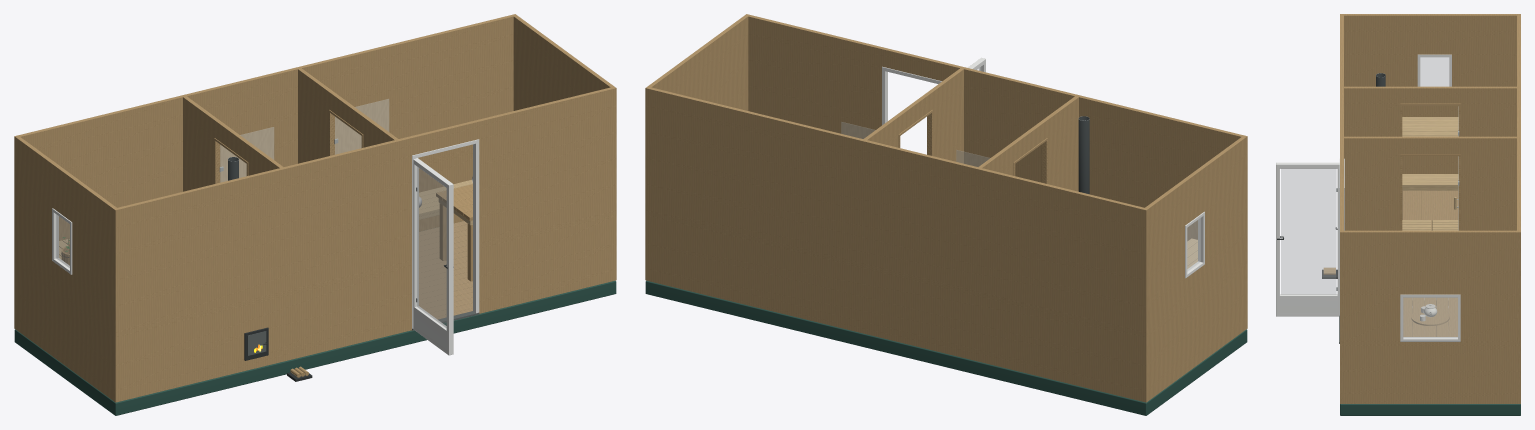
3 renders of one model, left to right at view 1: azimuth 30°, elevation 25°; view 2: azimuth 150°, elevation 25°; view 3: azimuth 270°, elevation 25°, orthographic. The views are drawn at different scales.
Visible parts, largest first — view 1: DP04-W01, DP04-W02, DP04-W03, Dimensioned foundation, Hinge_DP04-D03, DP04-W04, DP04-W05, DP04-W06, Floor lounge, Door entry p4_i372, С1 table, Hinge_DP04-D02 (+4 smaller); view 2: DP04-W02, DP04-W01, DP04-W03, Dimensioned foundation, DP04-W04, DP04-W05, DP04-W06, Window p4_i417, ASTON dimensioned stove and remote firebox, Door entry p4_i372; view 3: DP04-W04, DP04-W03, DP04-W06, Hinge_DP04-D03, DP04-W05, Window p4_i418, С1 table, Dimensioned foundation, Floor steam, DP04-W01, DP04-W02, Window p4_i417 (+7 smaller).
Boxes of the visible parts, left/top/right/bottom form: DP04-W01: left=113, top=86, right=616, bottom=402; DP04-W02: left=14, top=14, right=516, bottom=329; DP04-W03: left=16, top=137, right=116, bottom=400; Dimensioned foundation: left=14, top=280, right=616, bottom=415; Hinge_DP04-D03: left=413, top=158, right=453, bottom=355; DP04-W04: left=513, top=15, right=613, bottom=110; DP04-W05: left=183, top=96, right=283, bottom=191; DP04-W06: left=298, top=68, right=398, bottom=163; Floor lounge: left=419, top=221, right=472, bottom=319; Door entry p4_i372: left=412, top=139, right=479, bottom=330; С1 table: left=436, top=184, right=472, bottom=281; Hinge_DP04-D02: left=334, top=99, right=388, bottom=154; DP04-W02: left=645, top=86, right=1148, bottom=402; DP04-W01: left=745, top=14, right=1247, bottom=329; DP04-W03: left=1145, top=137, right=1245, bottom=400; Dimensioned foundation: left=645, top=280, right=1247, bottom=415; DP04-W04: left=648, top=15, right=748, bottom=110; DP04-W05: left=978, top=96, right=1078, bottom=191; DP04-W06: left=863, top=68, right=963, bottom=163; Window p4_i417: left=1185, top=211, right=1204, bottom=278; ASTON dimensioned stove and remote firebox: left=1078, top=116, right=1089, bottom=194; Door entry p4_i372: left=882, top=66, right=941, bottom=125; DP04-W04: left=1344, top=230, right=1516, bottom=403; DP04-W03: left=1344, top=14, right=1516, bottom=173; DP04-W06: left=1344, top=136, right=1516, bottom=230; Hinge_DP04-D03: left=1276, top=162, right=1339, bottom=316; DP04-W05: left=1344, top=86, right=1516, bottom=136; Window p4_i418: left=1400, top=294, right=1460, bottom=341; С1 table: left=1403, top=297, right=1457, bottom=336; Dimensioned foundation: left=1340, top=404, right=1520, bottom=415; Floor steam: left=1402, top=190, right=1458, bottom=230; DP04-W01: left=1340, top=14, right=1343, bottom=403; DP04-W02: left=1517, top=14, right=1520, bottom=403; Window p4_i417: left=1417, top=54, right=1451, bottom=86.
Size of the model in its own units: 6.02 by 2.36 by 2.84.
33 materials, 14 textured.
